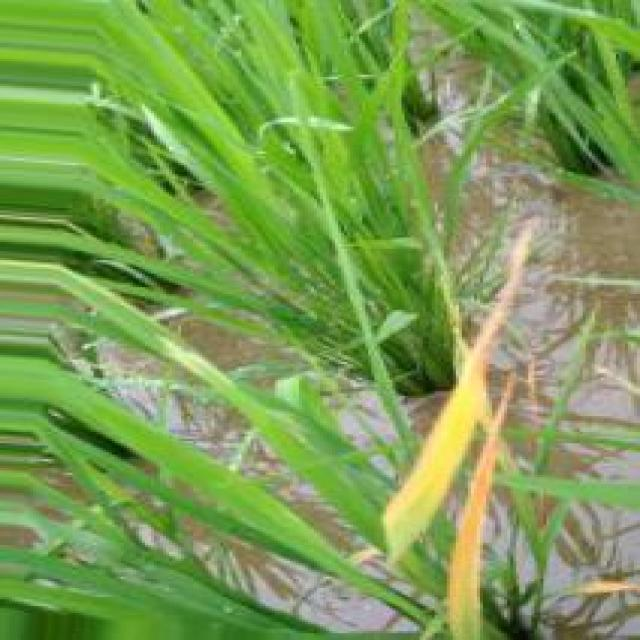Rice Tungro: (385, 226, 529, 562), (447, 374, 511, 639)
